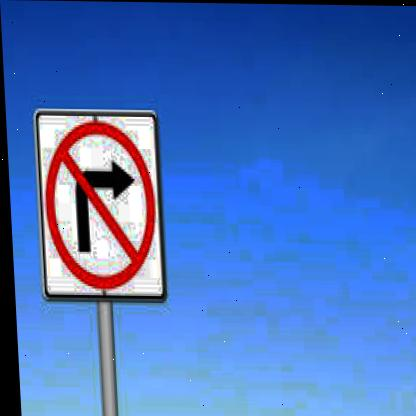No right turn: (33, 112, 164, 296)
